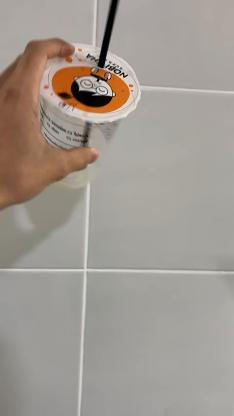Plastic Cup: (39, 43, 141, 186)
